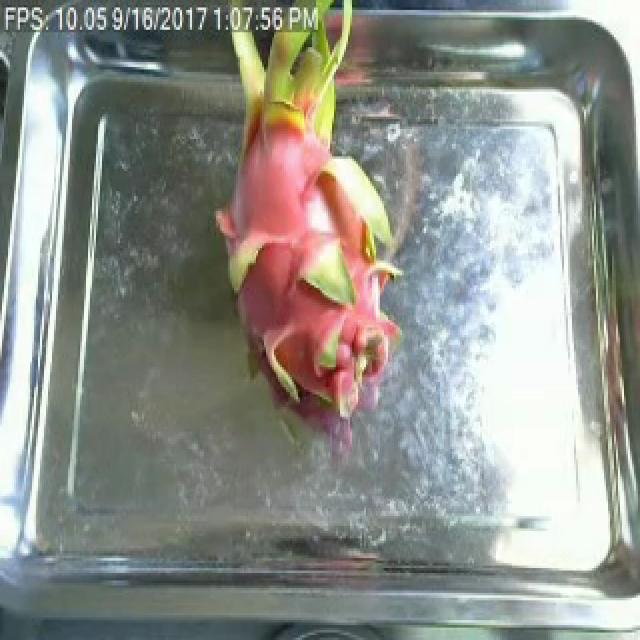fruit: (198, 8, 438, 434)
